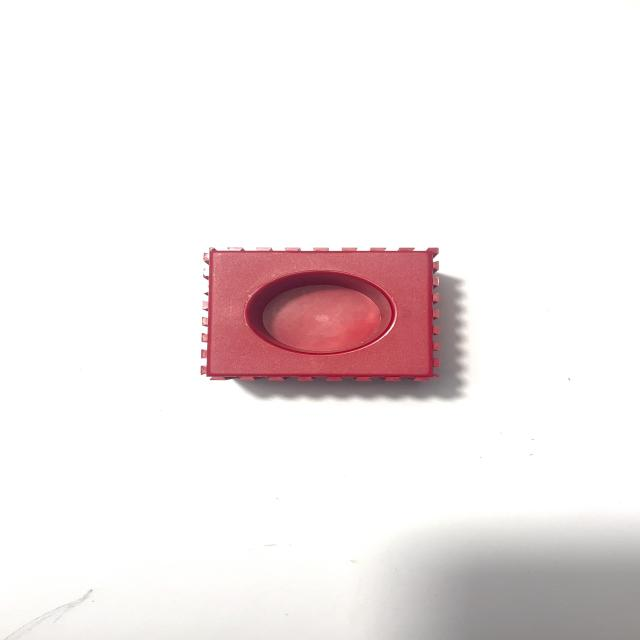Empty_Slot: (201, 248, 438, 381)
